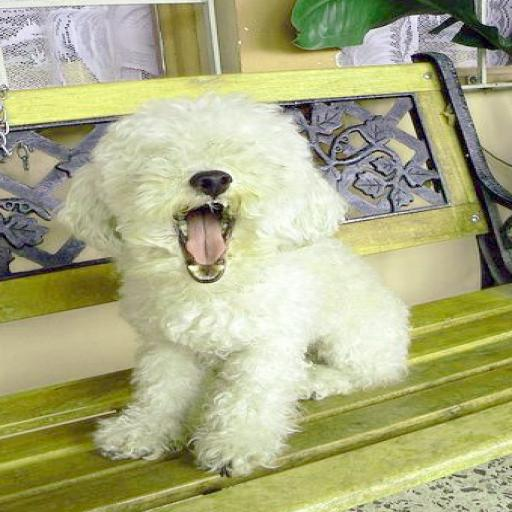dog_face: (84, 100, 317, 273)
